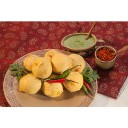bonda: (19, 74, 41, 93), (42, 79, 63, 96), (68, 52, 85, 72), (34, 60, 52, 78), (66, 73, 84, 91), (52, 54, 71, 71), (25, 54, 40, 72)
